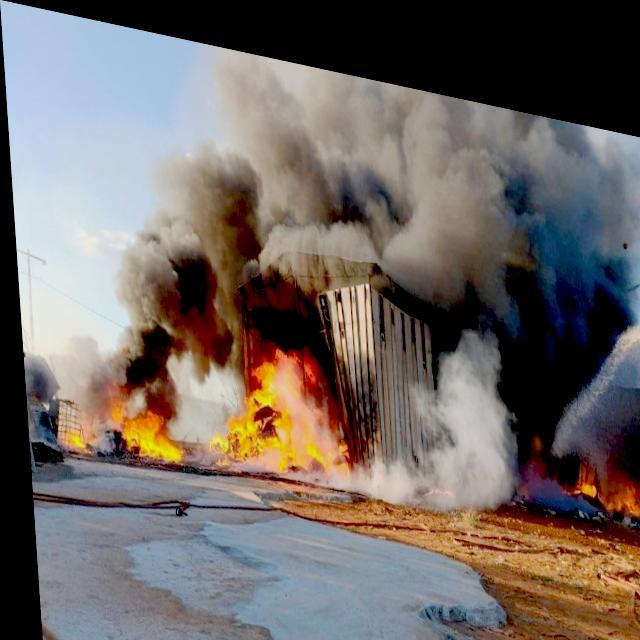Fire: (196, 310, 341, 467), (103, 376, 179, 458), (574, 437, 639, 493), (414, 454, 454, 488), (63, 417, 82, 450)
